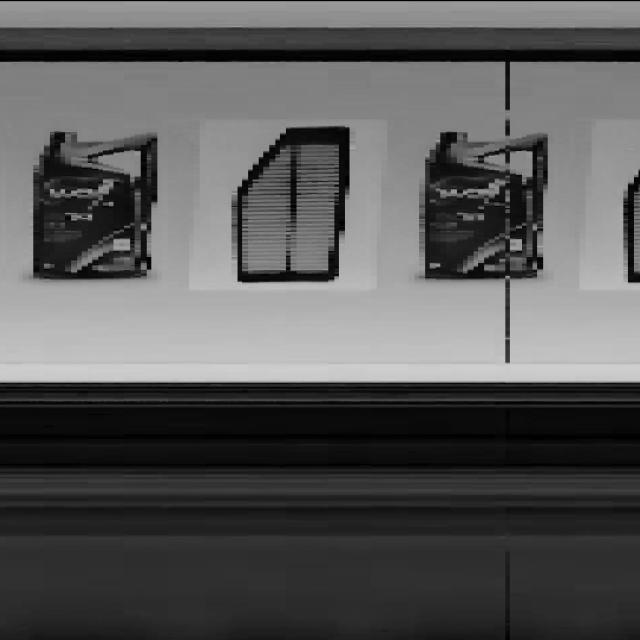air_filter: (217, 116, 359, 289)
motor_oil: (415, 121, 563, 286), (23, 116, 168, 284)
